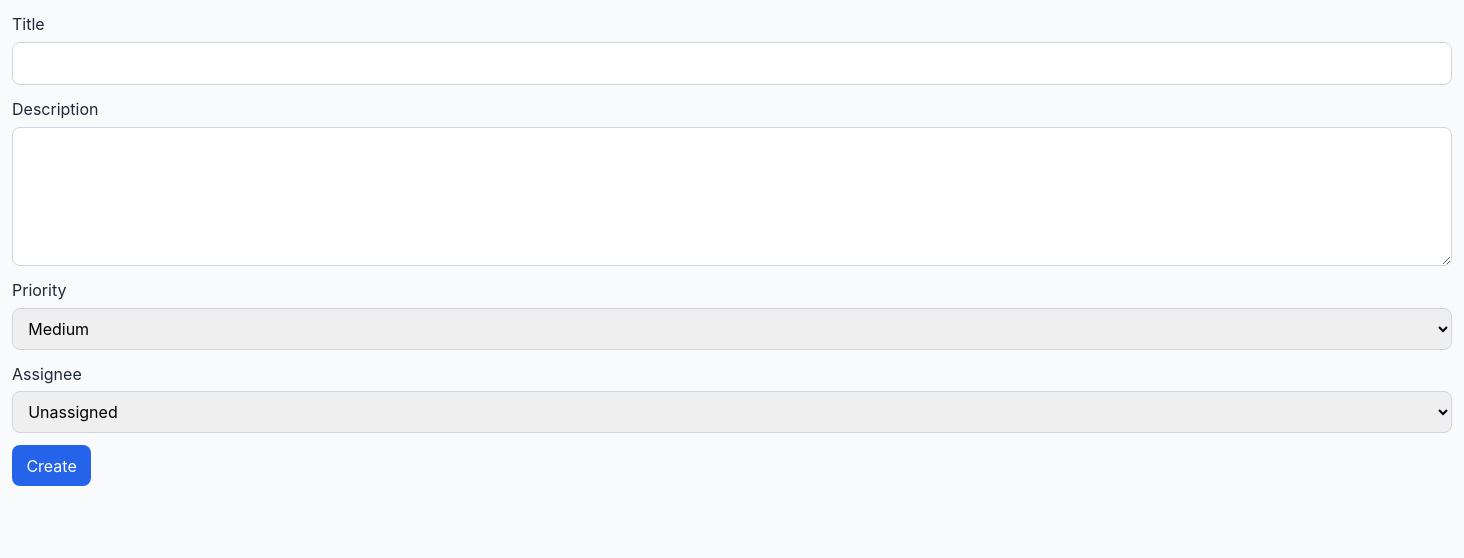
Test: TicketForm › blocks submit when title is empty
The image size is (1464, 558).
What coordinates should you click on to do the following:
click the button "Create"
I would click on:
 (52, 466)
Its box is [12,445,91,486].
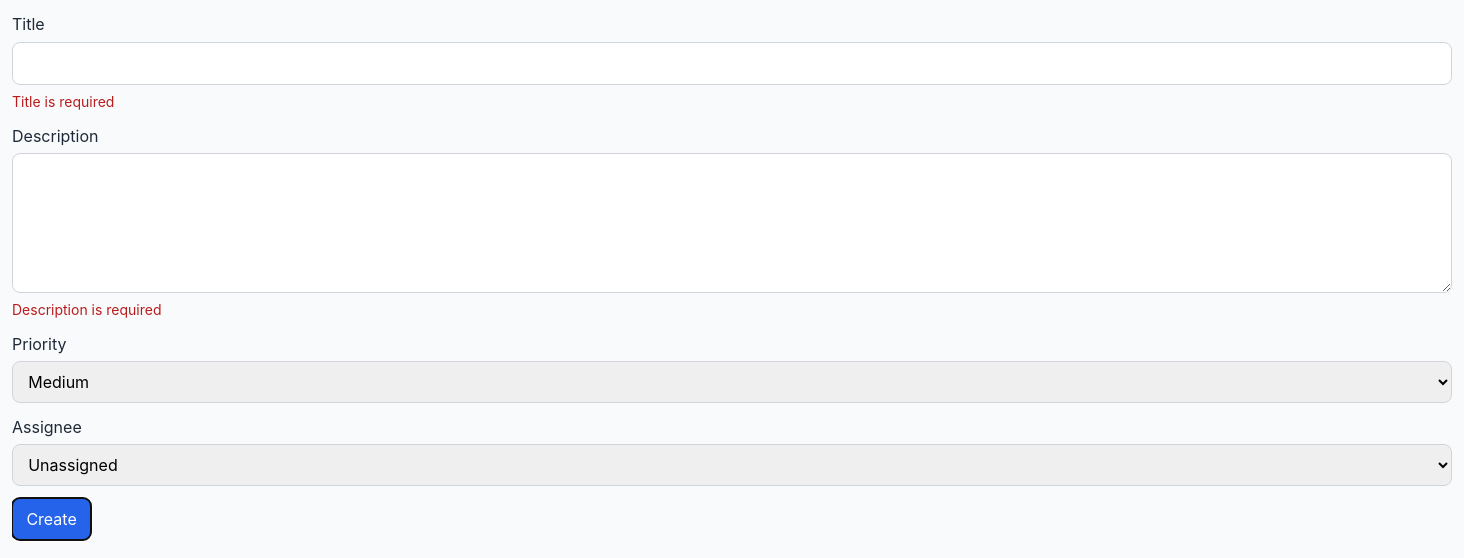
Expected: the text "Title is required" is shown, [12,93,114,110]
